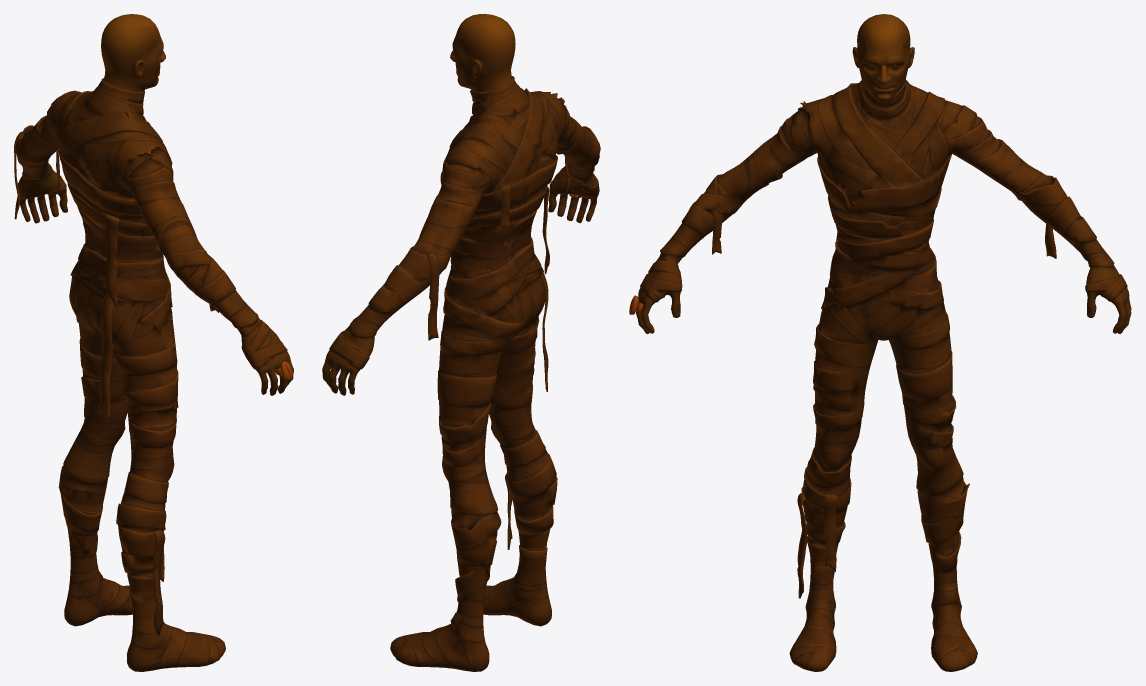
The model's file is Mud Mummy.fbx.
3 renders of one model, left to right at view 1: azimuth 30°, elevation 25°; view 2: azimuth 150°, elevation 25°; view 3: azimuth 270°, elevation 25°, orthographic.
Visible parts, largest first — view 1: Mud_Mummy; view 2: Mud_Mummy; view 3: Mud_Mummy.
Boxes of the visible parts, x1=… form: Mud_Mummy: x1=14, y1=14, x2=293, y2=671; Mud_Mummy: x1=322, y1=14, x2=600, y2=671; Mud_Mummy: x1=629, y1=14, x2=1131, y2=671.
Bounding box in the file's own units: 34.79 × 181 × 131.
2 materials, 2 textured.
